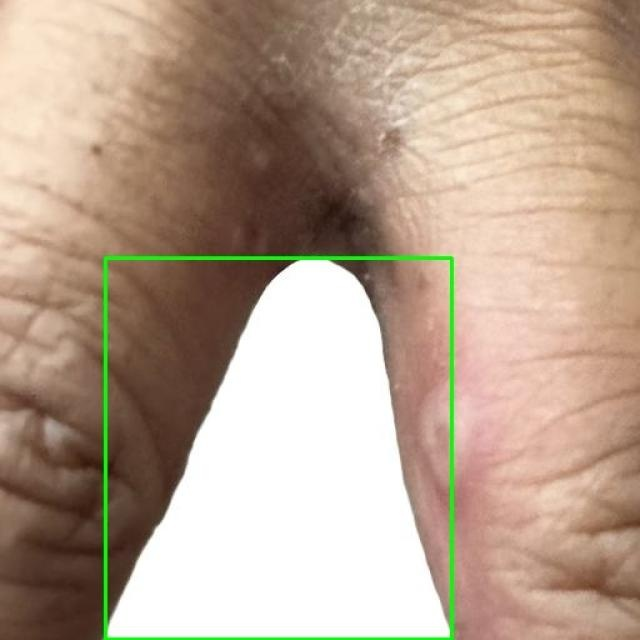Scabies: (105, 258, 451, 639)
